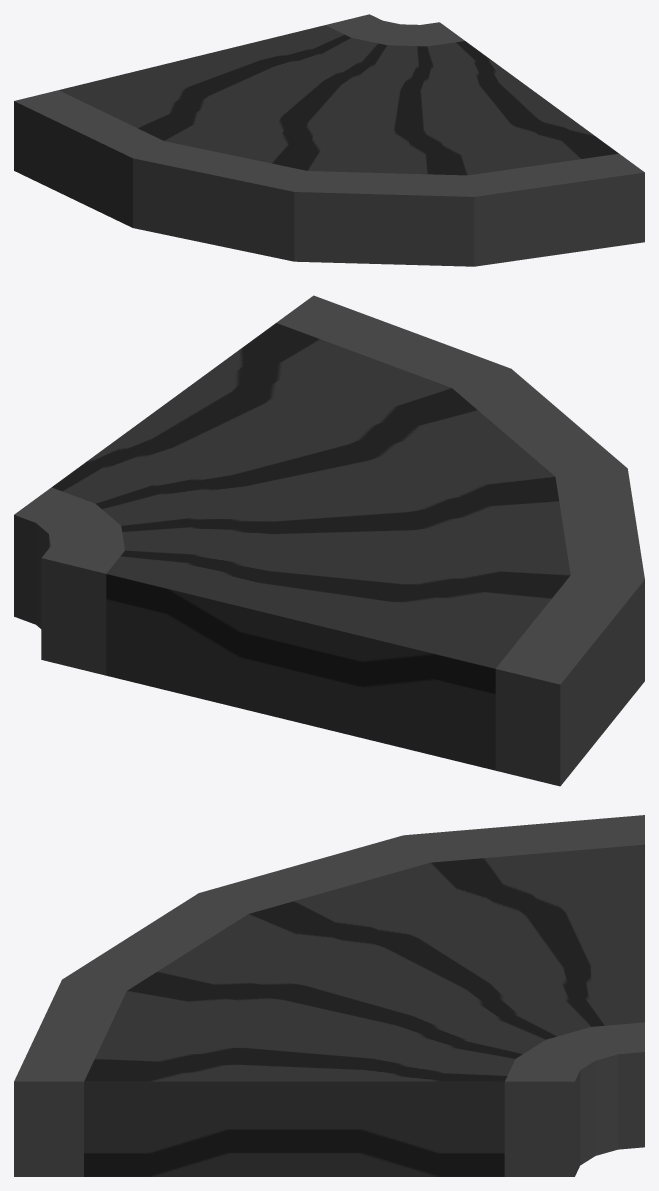
3 renders of one model, top to bottom at view 1: azimuth 30°, elevation 25°; view 2: azimuth 150°, elevation 25°; view 3: azimuth 270°, elevation 25°, orthographic. The views are drawn at different scales.
Parts seen in each view (by area): view 1: Cube_Cube.003, Belt_Plane; view 2: Belt_Plane, Cube_Cube.003; view 3: Belt_Plane, Cube_Cube.003.
Boxes of the visible parts, box(x1,y1,x2,y2) form: Cube_Cube.003: box(14, 14, 644, 266); Belt_Plane: box(59, 25, 618, 175); Belt_Plane: box(51, 323, 570, 770); Cube_Cube.003: box(14, 295, 644, 786); Belt_Plane: box(84, 844, 644, 1176); Cube_Cube.003: box(14, 815, 644, 1176).
Size of the model in its own units: 0.9 by 0.15 by 0.9.
2 materials, 1 textured.
